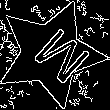M_SW: (16, 19, 86, 88)
